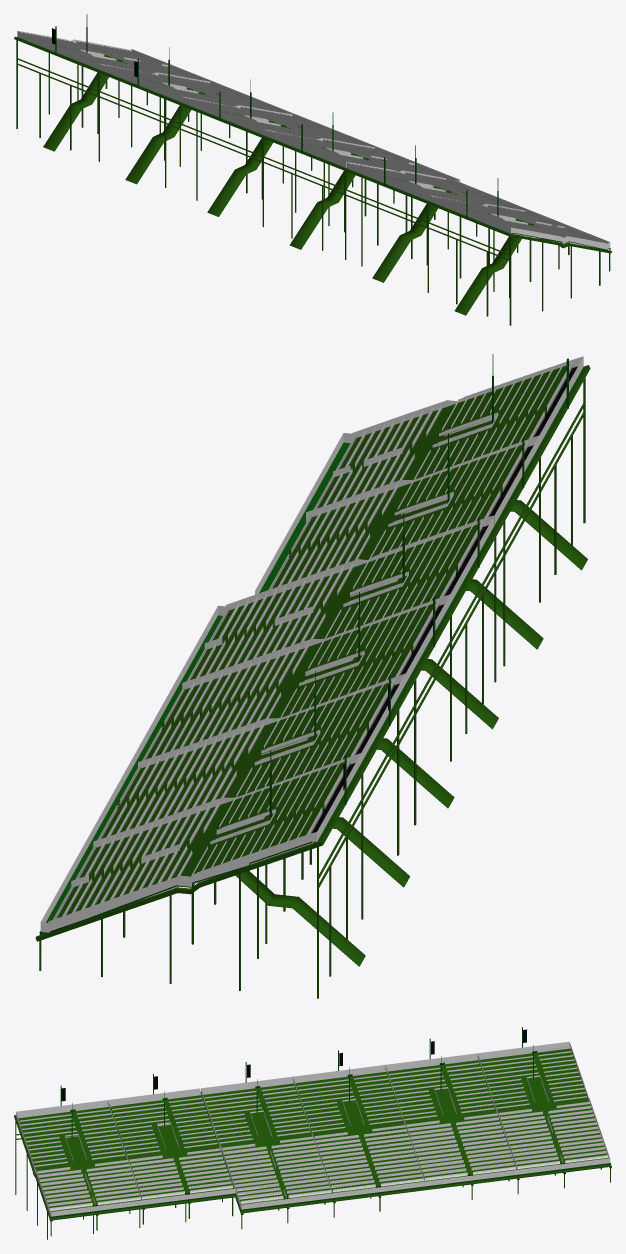
The model's file is T2_GrandStand02.fbx.
The picture shows the model from 3 angles, top to bottom: view 1: azimuth 30°, elevation 25°; view 2: azimuth 150°, elevation 25°; view 3: azimuth 270°, elevation 25°; orthographic projection. The views are drawn at different scales.
Visible parts, largest first — view 1: T2_GrandStand02_Base2, T2_GrandStand02_Audience_alpha, T2_GrandStand02_Fence_alpha, T2_GrandStand02_Base, T2_GrandStand02_Chairs_alpha; view 2: T2_GrandStand02_Audience_Far, T2_GrandStand02_Audience_alpha, T2_GrandStand02_Base2, T2_GrandStand02_Fence_alpha, T2_GrandStand02_Chairs_alpha, T2_GrandStand02_Base, T2_GrandStand02_Chairs_Far; view 3: T2_GrandStand02_Audience_Far, T2_GrandStand02_Audience_alpha, T2_GrandStand02_Fence_alpha, T2_GrandStand02_Base2, T2_GrandStand02_ShadowOnly, T2_GrandStand02_Base, T2_GrandStand02_Chairs_Far.
Boxes of the visible parts, x1,y1,x2,y2 form: T2_GrandStand02_Base2: (14,36,611,325); T2_GrandStand02_Audience_alpha: (23,32,600,242); T2_GrandStand02_Fence_alpha: (17,31,610,249); T2_GrandStand02_Base: (17,14,610,249); T2_GrandStand02_Chairs_alpha: (76,42,564,237); T2_GrandStand02_Audience_Far: (57,364,569,918); T2_GrandStand02_Audience_alpha: (52,361,572,919); T2_GrandStand02_Base2: (35,365,590,998); T2_GrandStand02_Fence_alpha: (40,356,583,932); T2_GrandStand02_Chairs_alpha: (55,364,572,918); T2_GrandStand02_Base: (39,354,584,934); T2_GrandStand02_Chairs_Far: (197,407,546,848); T2_GrandStand02_Audience_Far: (18,1048,607,1210); T2_GrandStand02_Audience_alpha: (17,1047,608,1210); T2_GrandStand02_Fence_alpha: (16,1041,610,1216); T2_GrandStand02_Base2: (14,1091,611,1239); T2_GrandStand02_ShadowOnly: (51,1061,607,1211); T2_GrandStand02_Base: (15,1027,610,1217); T2_GrandStand02_Chairs_Far: (66,1074,550,1159).
Bounding box in the file's own units: 27.02 × 10.53 × 55.93.
